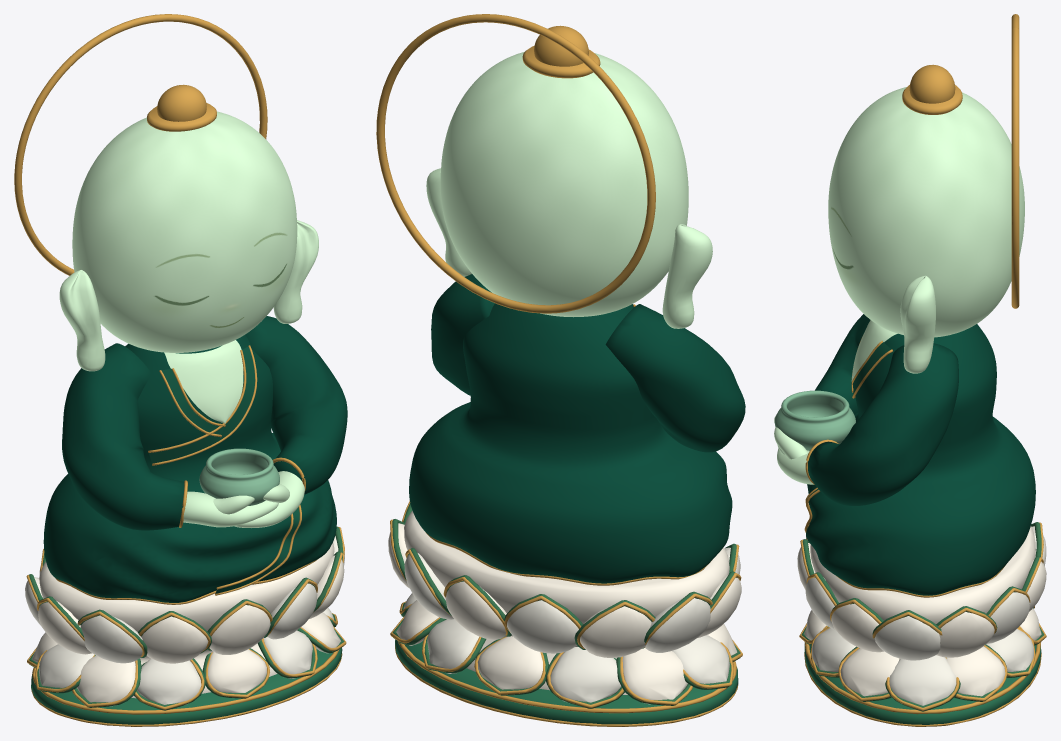
The model's file is chibi-phat-ngoc.glb.
3 renders of one model, left to right at view 1: azimuth 30°, elevation 25°; view 2: azimuth 150°, elevation 25°; view 3: azimuth 270°, elevation 25°, orthographic. The views are drawn at different scales.
Visible parts, largest first — view 1: Deep emerald robe | closed lotus pose and gold-bound drape, Pale jade head | painted closed eyes and smile, Jade plinth | double white lotus with gilded petal rims, Jade neck and short sculpted earlobes, Thin open gold halo, Dhyana | right palm over left and touching thumbs, Small hollow jade alms bowl, Small gold ushnisha; view 2: Deep emerald robe | closed lotus pose and gold-bound drape, Jade plinth | double white lotus with gilded petal rims, Pale jade head | painted closed eyes and smile, Thin open gold halo, Jade neck and short sculpted earlobes, Small gold ushnisha; view 3: Deep emerald robe | closed lotus pose and gold-bound drape, Pale jade head | painted closed eyes and smile, Jade plinth | double white lotus with gilded petal rims, Small hollow jade alms bowl, Jade neck and short sculpted earlobes, Thin open gold halo, Small gold ushnisha, Dhyana | right palm over left and touching thumbs.
Part boxes in pixels (x1,y1,x2,y2): Deep emerald robe | closed lotus pose and gold-bound drape: [43, 316, 347, 604]; Pale jade head | painted closed eyes and smile: [72, 111, 297, 352]; Jade plinth | double white lotus with gilded petal rims: [25, 526, 346, 726]; Jade neck and short sculpted earlobes: [59, 220, 318, 371]; Thin open gold halo: [14, 14, 267, 275]; Dhyana | right palm over left and touching thumbs: [183, 471, 304, 527]; Small hollow jade alms bowl: [199, 448, 279, 505]; Small gold ushnisha: [147, 84, 216, 131]; Deep emerald robe | closed lotus pose and gold-bound drape: [409, 274, 745, 585]; Jade plinth | double white lotus with gilded petal rims: [388, 500, 742, 726]; Pale jade head | painted closed eyes and smile: [440, 51, 688, 317]; Thin open gold halo: [376, 14, 655, 313]; Jade neck and short sculpted earlobes: [426, 168, 712, 328]; Small gold ushnisha: [522, 25, 600, 78]; Deep emerald robe | closed lotus pose and gold-bound drape: [804, 314, 1035, 597]; Pale jade head | painted closed eyes and smile: [828, 87, 1024, 337]; Jade plinth | double white lotus with gilded petal rims: [797, 522, 1046, 726]; Small hollow jade alms bowl: [774, 390, 855, 450]; Jade neck and short sculpted earlobes: [900, 275, 935, 373]; Thin open gold halo: [1011, 14, 1019, 308]; Small gold ushnisha: [902, 64, 962, 114]; Dhyana | right palm over left and touching thumbs: [774, 416, 813, 484].
Bounding box in the file's own units: 1.25 × 2.5 × 0.9781.
10 materials, 1 textured.
